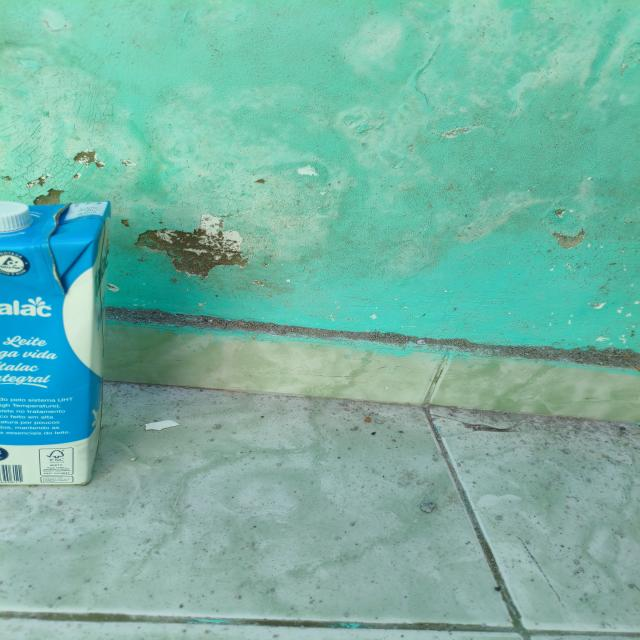Caixa de Leite: (0, 198, 115, 486)
